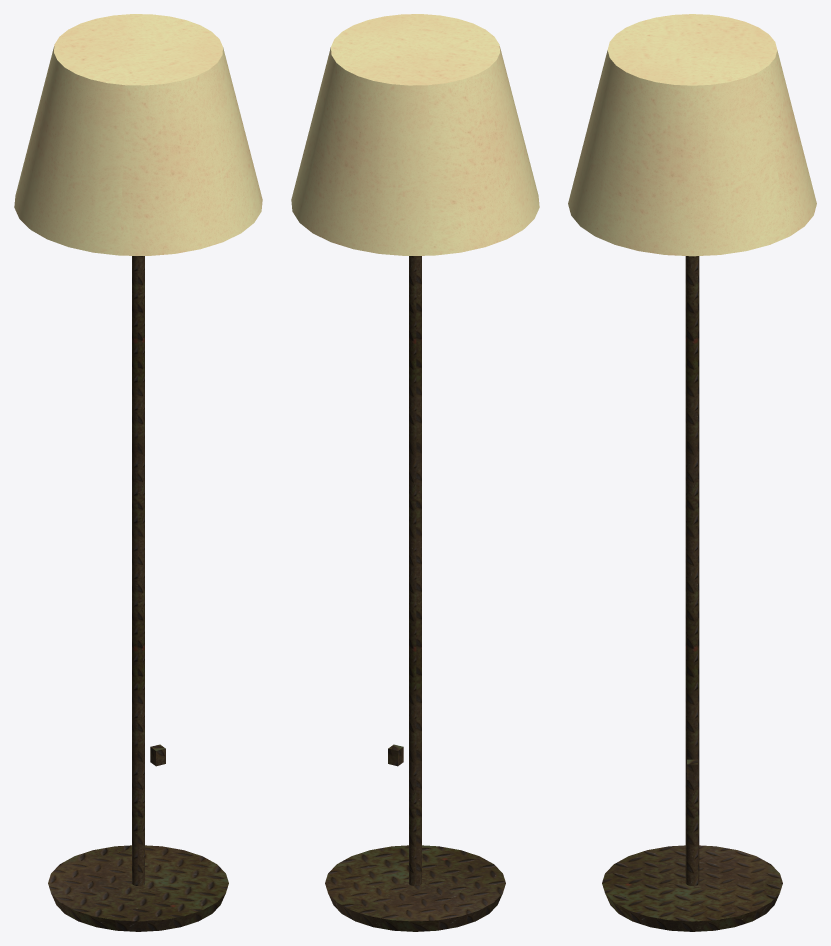
The model's file is floor_lamp.fbx.
The picture shows the model from 3 angles, left to right: view 1: azimuth 30°, elevation 25°; view 2: azimuth 150°, elevation 25°; view 3: azimuth 270°, elevation 25°; orthographic projection.
Visible parts, largest first — view 1: floor_lamp; view 2: floor_lamp; view 3: floor_lamp.
Part boxes in pixels (x1,y1,x2,y2): floor_lamp: (14,14,262,931); floor_lamp: (291,14,539,931); floor_lamp: (568,14,816,931).
Size of what is drawn, in the model's own units: 44 by 165 by 44.
Materials: 3 (2 with a texture image).
